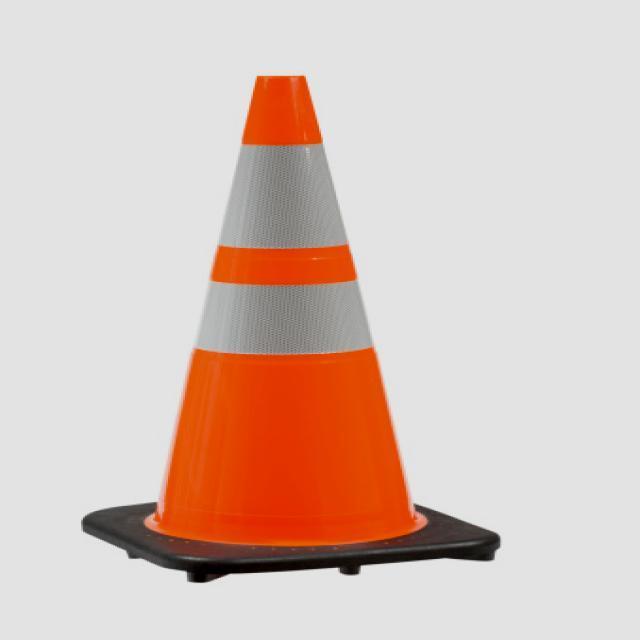traffic cone: (80, 76, 502, 588)
